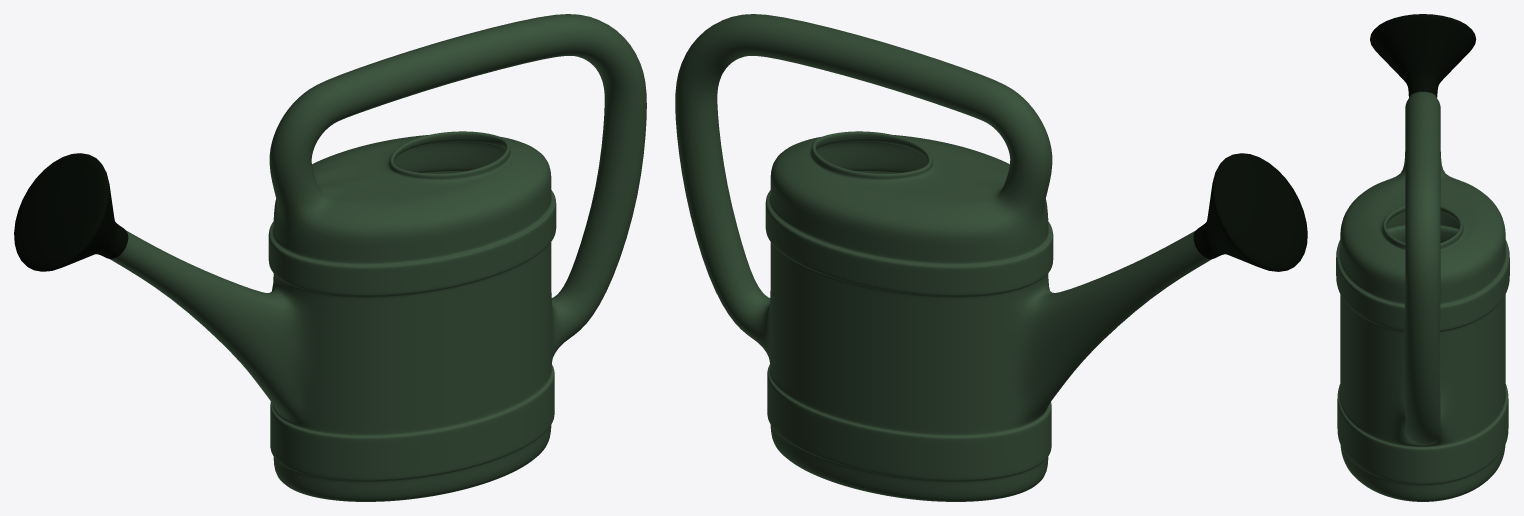
The picture shows the model from 3 angles, left to right: view 1: azimuth 30°, elevation 25°; view 2: azimuth 150°, elevation 25°; view 3: azimuth 270°, elevation 25°; orthographic projection. The views are drawn at different scales.
Visible parts, largest first — view 1: Cylinder.004; view 2: Cylinder.004; view 3: Cylinder.004.
Part boxes in pixels (x1,y1,x2,y2): Cylinder.004: [14, 14, 646, 501]; Cylinder.004: [675, 14, 1307, 501]; Cylinder.004: [1336, 14, 1509, 501].
Size of the model in its own units: 46.76 by 29.46 by 13.81.
